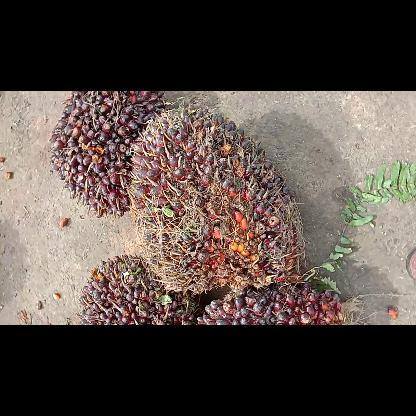Kurang masak: (126, 102, 308, 292), (49, 90, 165, 218), (79, 254, 203, 324), (196, 282, 346, 324)
